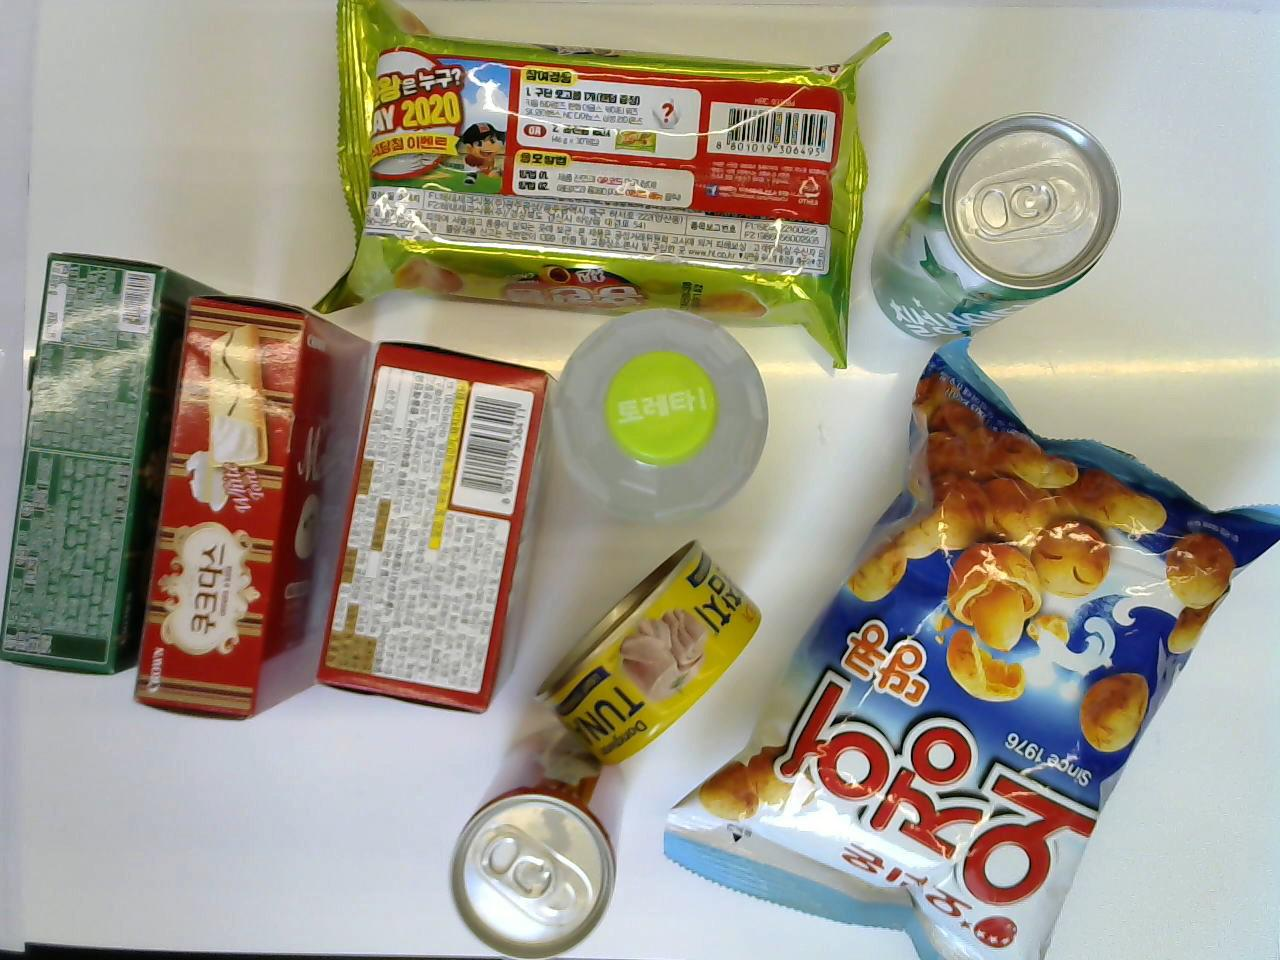chocopie: (318, 334, 559, 714)
cidar: (865, 112, 1121, 341)
coke: (450, 694, 633, 959)
couque_coffee: (0, 254, 253, 683)
couque_white: (129, 294, 379, 728)
homerunball: (315, 0, 891, 373)
squid_peanut: (661, 342, 1280, 959)
toreta: (542, 301, 771, 529)
tuna: (533, 542, 768, 764)
